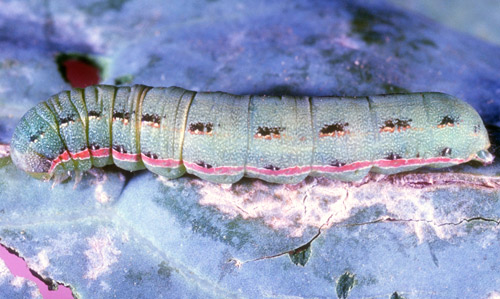Armyworm: (12, 84, 500, 182)
